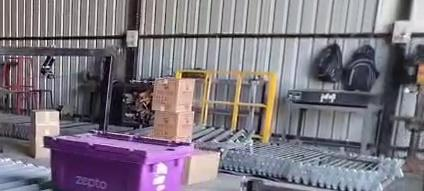box: (45, 132, 192, 190), (151, 78, 194, 112), (152, 111, 194, 141)
